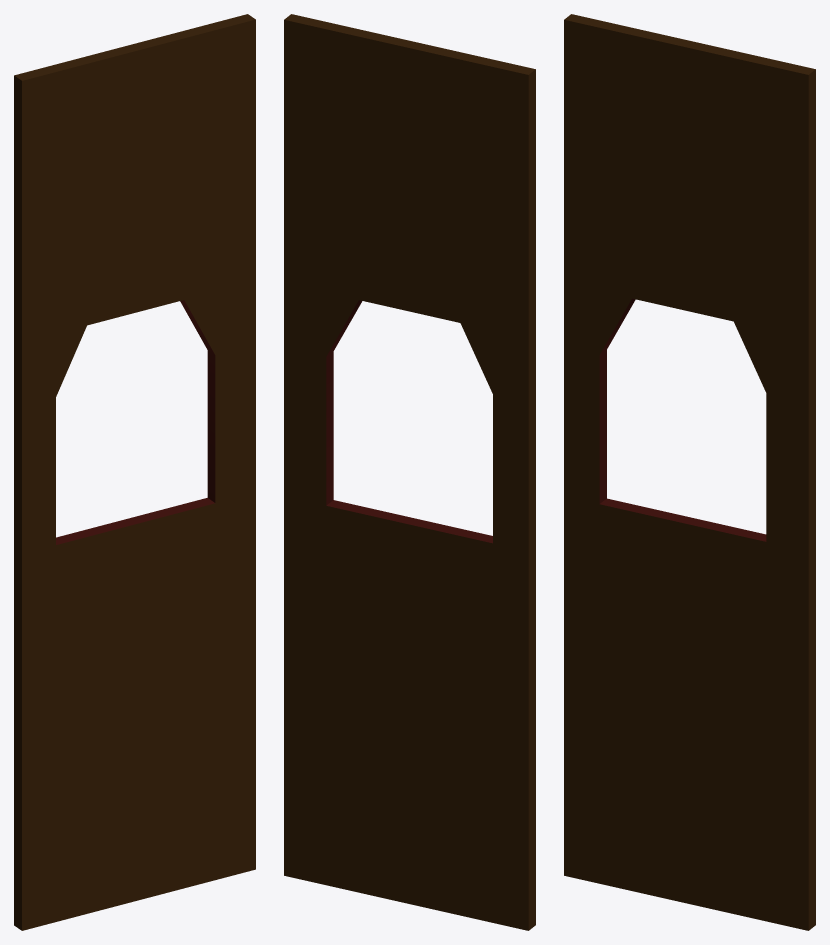
Rendered from doorway_block.fbx.
3 views of the same model, side by side, from view 1: azimuth 30°, elevation 25°; view 2: azimuth 150°, elevation 25°; view 3: azimuth 330°, elevation 25° (orthographic).
Visible parts, largest first — view 1: BackHallPlaceholder1; view 2: BackHallPlaceholder1; view 3: BackHallPlaceholder1.
Boxes of the visible parts, left/top/right/bottom form: BackHallPlaceholder1: left=14, top=14, right=255, bottom=930; BackHallPlaceholder1: left=284, top=14, right=535, bottom=930; BackHallPlaceholder1: left=564, top=14, right=815, bottom=930.
Size of the model in its own units: 17.98 by 61.17 by 1.59.
